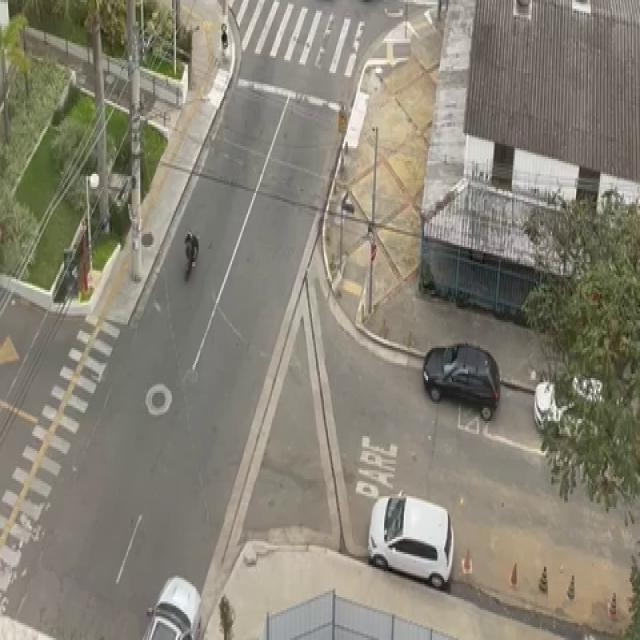car: (356, 488, 464, 594), (416, 338, 504, 428)
motorbike: (175, 226, 207, 288)
